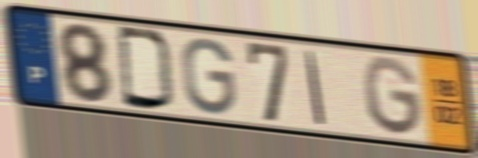7: (245, 39, 290, 124)
8: (57, 20, 118, 105)
D: (114, 23, 178, 114)
G: (360, 53, 425, 139), (180, 35, 238, 117)
I: (303, 48, 328, 129)
